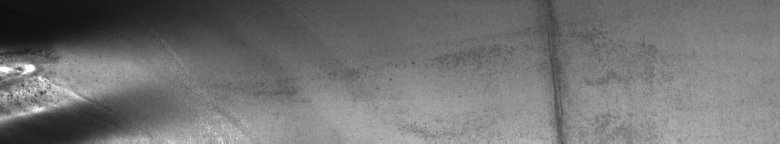ke: (4, 44, 142, 136)
